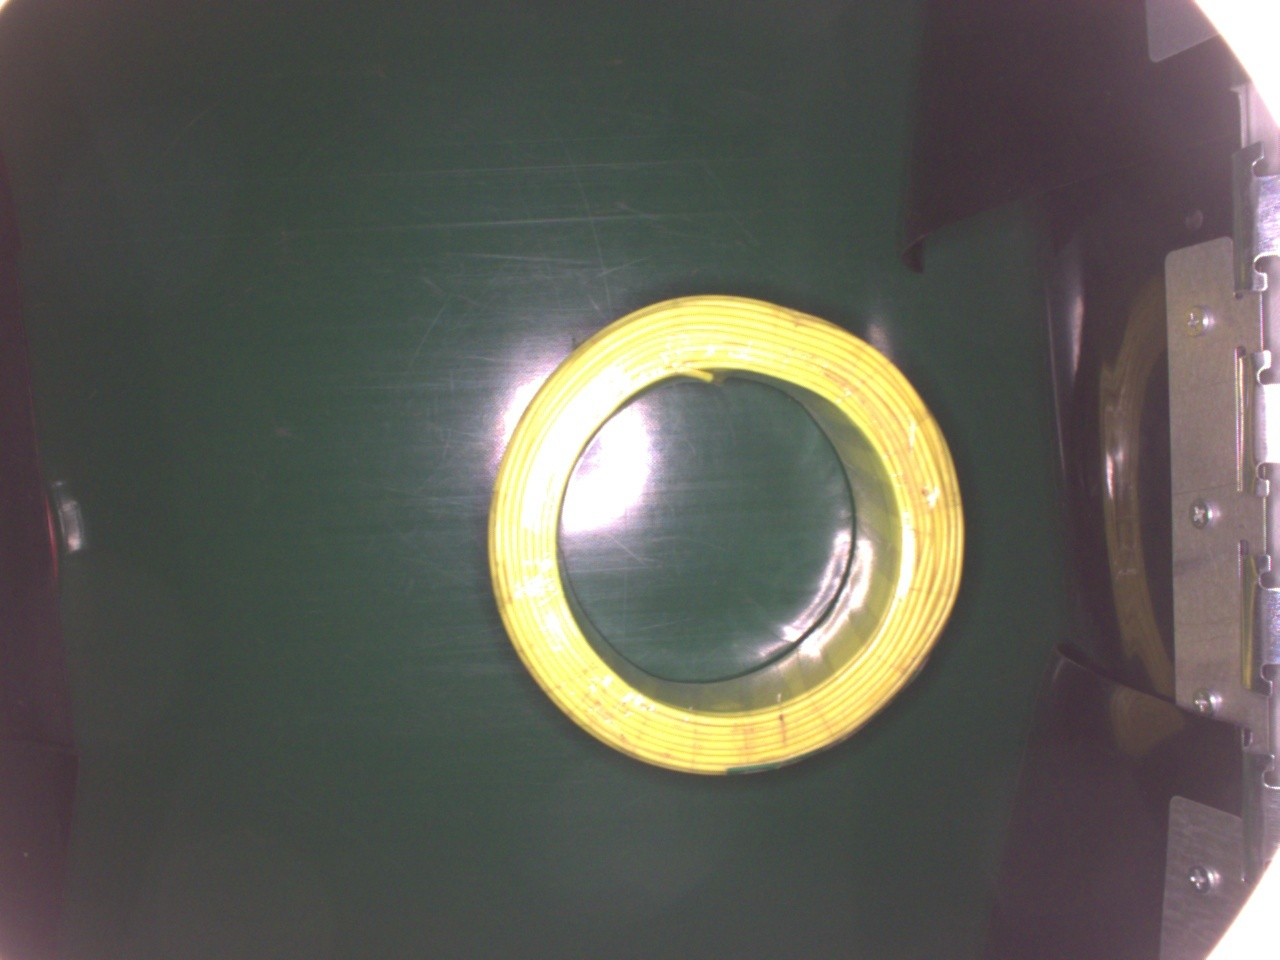yellow: (484, 285, 968, 779)
